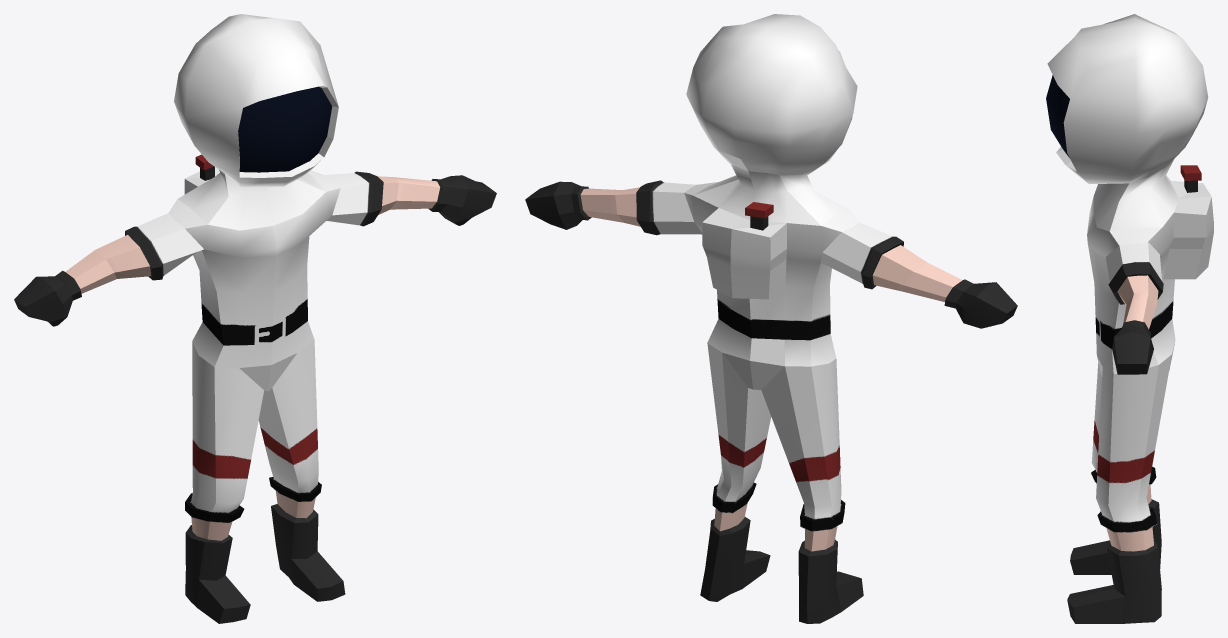
Rendered from Astronaut Character.fbx.
The picture shows the model from 3 angles, left to right: view 1: azimuth 30°, elevation 25°; view 2: azimuth 150°, elevation 25°; view 3: azimuth 270°, elevation 25°; orthographic projection.
Visible parts, largest first — view 1: Painter; view 2: Painter; view 3: Painter.
Part boxes in pixels (x1,y1,x2,y2): Painter: (14,14,496,623); Painter: (525,14,1017,623); Painter: (1046,14,1213,623).
Bounding box in the file's own units: 1.17 × 1.35 × 0.3606.
1 material, 1 textured.
